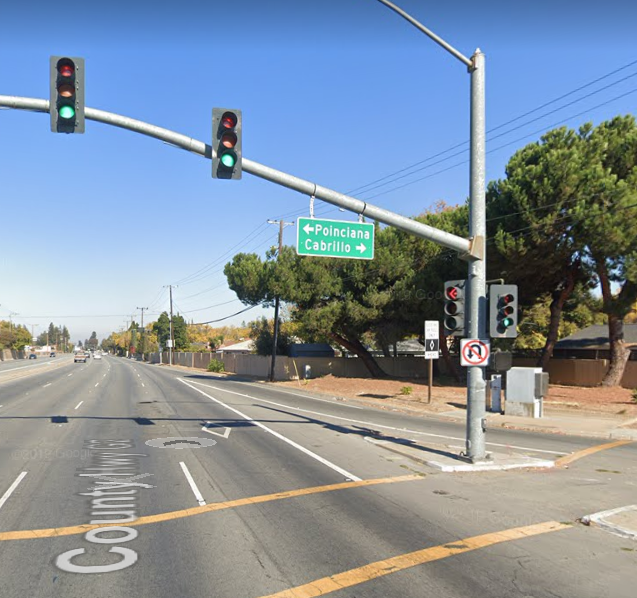green_light: (51, 58, 83, 129), (214, 109, 242, 176), (491, 289, 515, 333)
